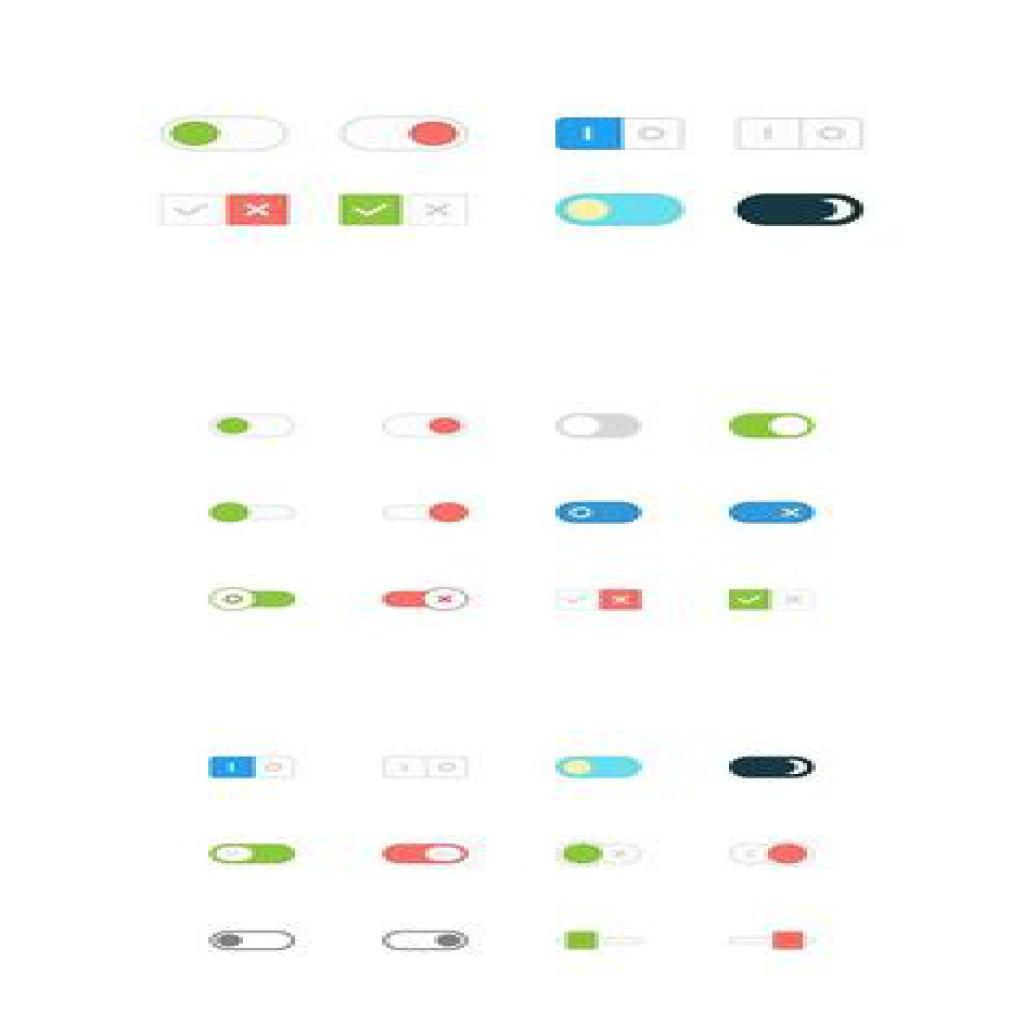switch: (146, 102, 310, 166), (328, 104, 492, 162), (532, 110, 706, 162), (541, 189, 692, 245), (180, 491, 333, 535), (718, 392, 841, 445), (732, 189, 875, 234), (358, 402, 495, 448), (363, 580, 492, 625), (198, 402, 324, 448), (189, 578, 324, 620), (710, 486, 833, 532), (545, 404, 660, 452), (548, 491, 668, 536), (377, 493, 492, 535), (731, 118, 867, 153)
table: (383, 838, 473, 876), (556, 749, 645, 784), (381, 926, 475, 958), (210, 926, 300, 958), (725, 754, 819, 784), (207, 841, 300, 869)
